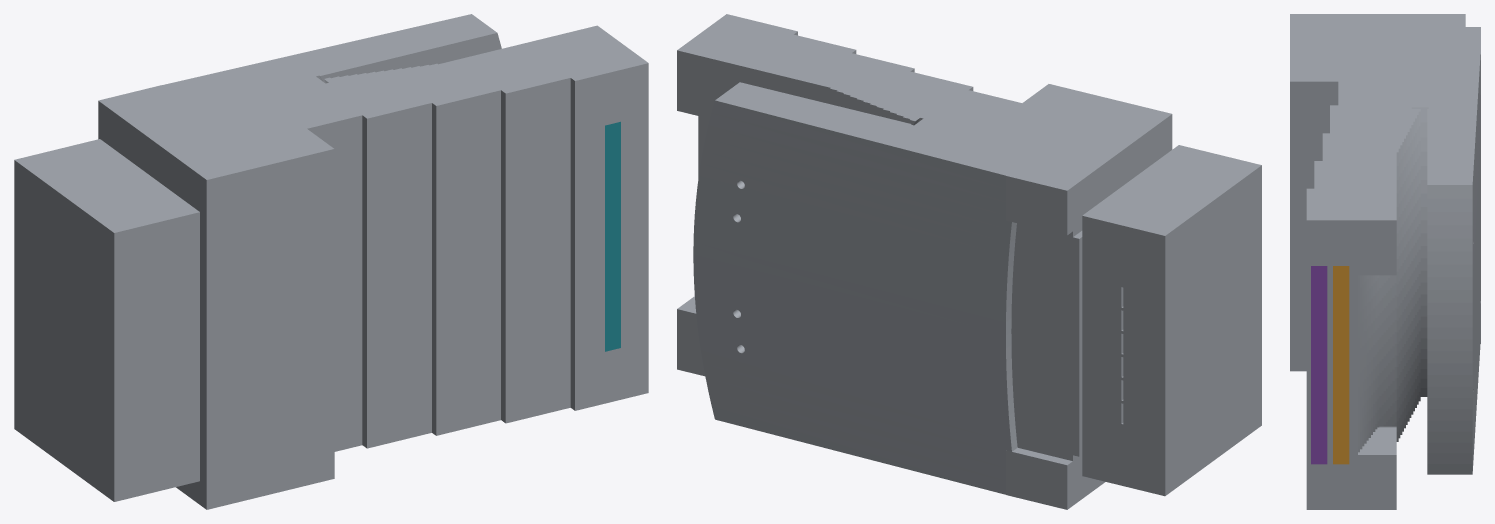
The model's file is modelo-localizado.obj.
3 views of the same model, side by side, from view 1: azimuth 30°, elevation 25°; view 2: azimuth 150°, elevation 25°; view 3: azimuth 270°, elevation 25° (orthographic). The views are drawn at different scales.
Visible parts, largest first — view 1: 06_cielo, 05_muros, 15_cielo_3, 16_cielo_4, 14_cielo_2, 17_cielo_5, 10_laterales_altos, 13_cielo_1, 24_cortina_esc_fondo, 08_embocadura, PANO_C, 25_cortina_esc_lados (+2 smaller); view 2: 18_butacas_platea, 05_muros, 00_escenario, 21_pasillos_alfombra, 22_madera_expuesta, 10_laterales_altos, 24_cortina_esc_fondo, 08_embocadura, 25_cortina_esc_lados, 26_cortina_palcos_esc, 03_frente_balcon; view 3: 05_muros, 23_cortinas_fondo, 03_frente_balcon, 11_fondo_alto, 10_laterales_altos, 13_cielo_1, PANO_D, PANO_R, 09_antepecho, 18_butacas_platea, 26_cortina_palcos_esc, 22_madera_expuesta (+2 smaller).
Boxes of the visible parts, x1=… form: 06_cielo: x1=114, y1=149, x2=334, y2=509; 05_muros: x1=14, y1=14, x2=564, y2=501; 15_cielo_3: x1=436, y1=90, x2=505, y2=435; 16_cielo_4: x1=505, y1=78, x2=574, y2=423; 14_cielo_2: x1=367, y1=103, x2=436, y2=448; 17_cielo_5: x1=575, y1=63, x2=648, y2=410; 10_laterales_altos: x1=109, y1=25, x2=648, y2=118; 13_cielo_1: x1=307, y1=115, x2=366, y2=451; 24_cortina_esc_fondo: x1=14, y1=200, x2=67, y2=427; 08_embocadura: x1=104, y1=105, x2=206, y2=509; PANO_C: x1=605, y1=121, x2=620, y2=351; 25_cortina_esc_lados: x1=21, y1=141, x2=141, y2=197; 18_butacas_platea: x1=703, y1=118, x2=993, y2=472; 05_muros: x1=715, y1=35, x2=1261, y2=495; 00_escenario: x1=1011, y1=216, x2=1165, y2=496; 21_pasillos_alfombra: x1=693, y1=88, x2=1005, y2=494; 22_madera_expuesta: x1=677, y1=50, x2=1072, y2=509; 10_laterales_altos: x1=677, y1=14, x2=1071, y2=185; 24_cortina_esc_fondo: x1=1165, y1=237, x2=1217, y2=456; 08_embocadura: x1=1073, y1=114, x2=1172, y2=505; 25_cortina_esc_lados: x1=1093, y1=180, x2=1210, y2=234; 26_cortina_palcos_esc: x1=1049, y1=135, x2=1125, y2=168; 03_frente_balcon: x1=1006, y1=222, x2=1017, y2=451; 05_muros: x1=1290, y1=14, x2=1480, y2=187; 23_cortinas_fondo: x1=1427, y1=185, x2=1472, y2=474; 03_frente_balcon: x1=1358, y1=111, x2=1420, y2=452; 11_fondo_alto: x1=1306, y1=220, x2=1396, y2=509; 10_laterales_altos: x1=1306, y1=27, x2=1470, y2=220; 13_cielo_1: x1=1290, y1=81, x2=1338, y2=371; PANO_D: x1=1333, y1=266, x2=1349, y2=464; PANO_R: x1=1311, y1=266, x2=1327, y2=464; 09_antepecho: x1=1411, y1=107, x2=1428, y2=396; 18_butacas_platea: x1=1472, y1=79, x2=1480, y2=455; 26_cortina_palcos_esc: x1=1371, y1=27, x2=1427, y2=47; 22_madera_expuesta: x1=1358, y1=72, x2=1480, y2=454.
Size of the model in its own units: 40.25 by 23.33 by 13.92.
